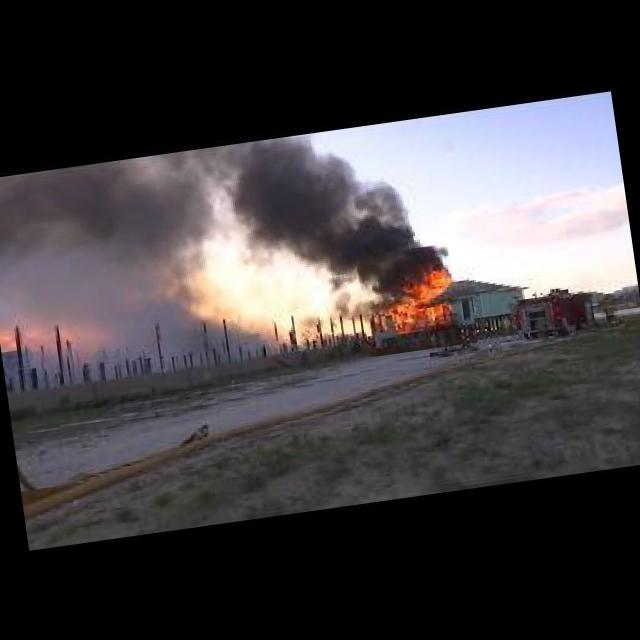fire: (356, 242, 478, 358)
